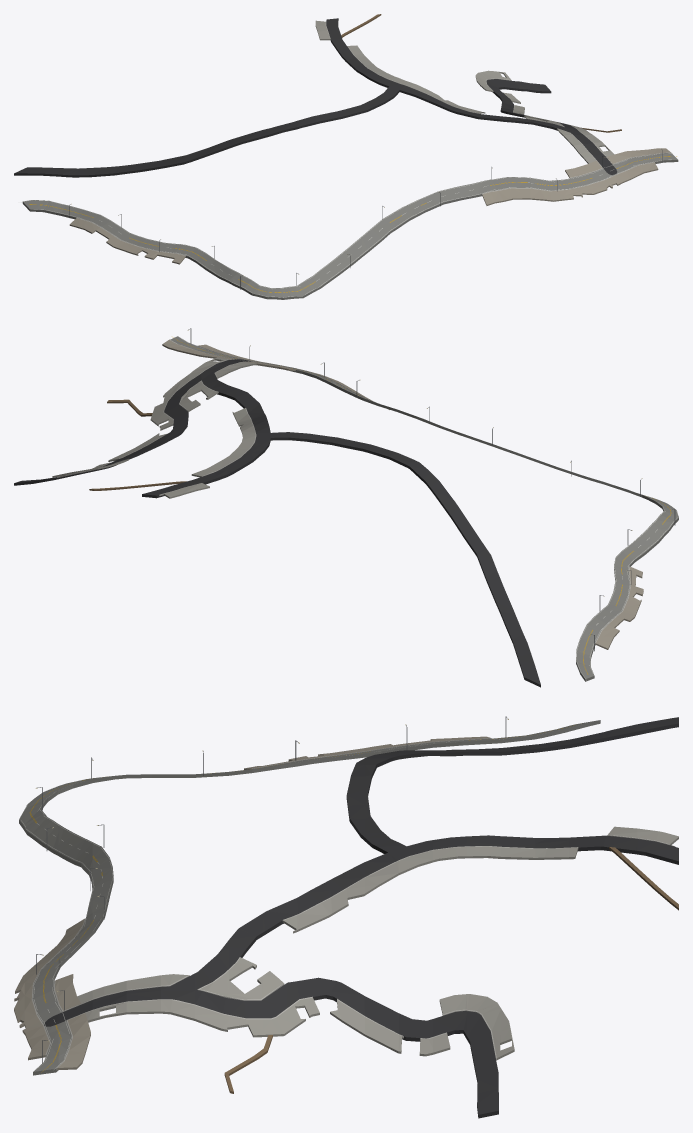
3 views of the same model, one above another, from view 1: azimuth 30°, elevation 25°; view 2: azimuth 150°, elevation 25°; view 3: azimuth 270°, elevation 25° (orthographic). The views are drawn at different scales.
Bounding box in the file's own units: 297 × 52.4 × 195.
